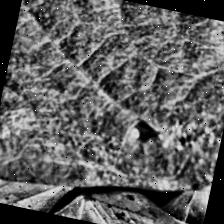ALS: (0, 0, 224, 215)
